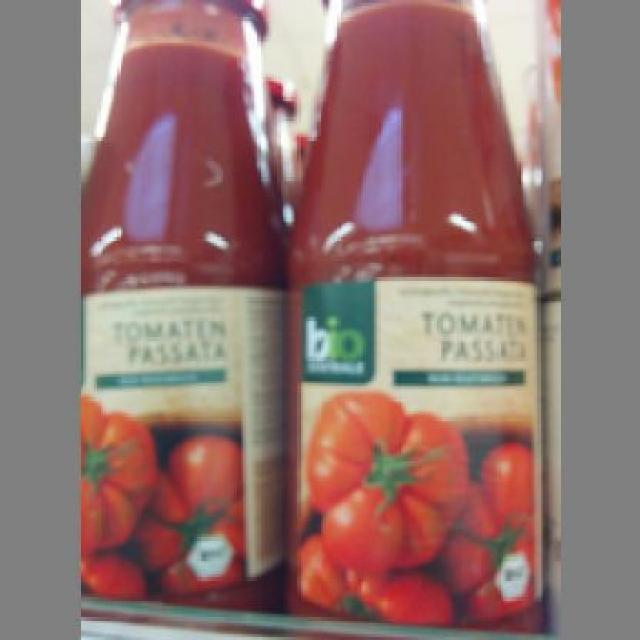Tomato Sauce: (277, 0, 546, 637), (80, 0, 286, 612)
